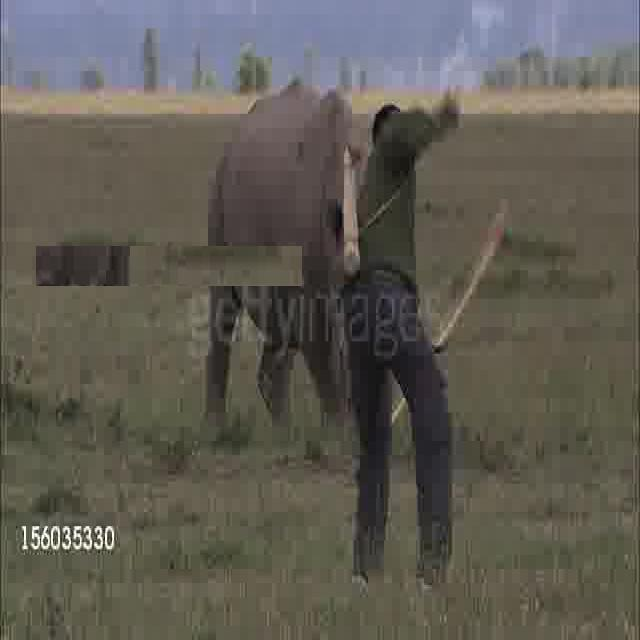poacher: (213, 172, 427, 568)
weapon: (36, 246, 302, 286)
